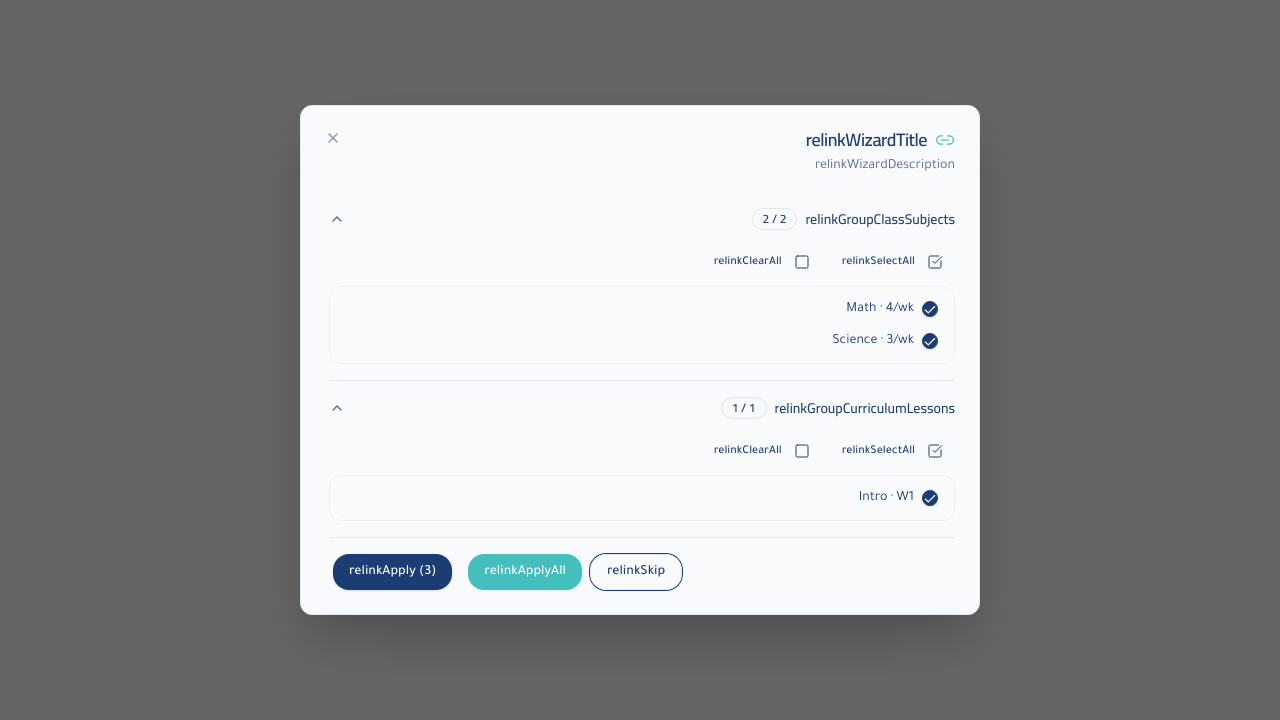
Test: RelinkAssignmentsWizard › clear-all empties one group, toggling a row flips only that row
The width and height of the screenshot is (1280, 720).
Expected: the button with test id "relink-apply-selected" is shown, x1=333 y1=554 x2=452 y2=590
Click the 1st button "relinkClearAll" at (762, 262), box x1=702 y1=246 x2=822 y2=278
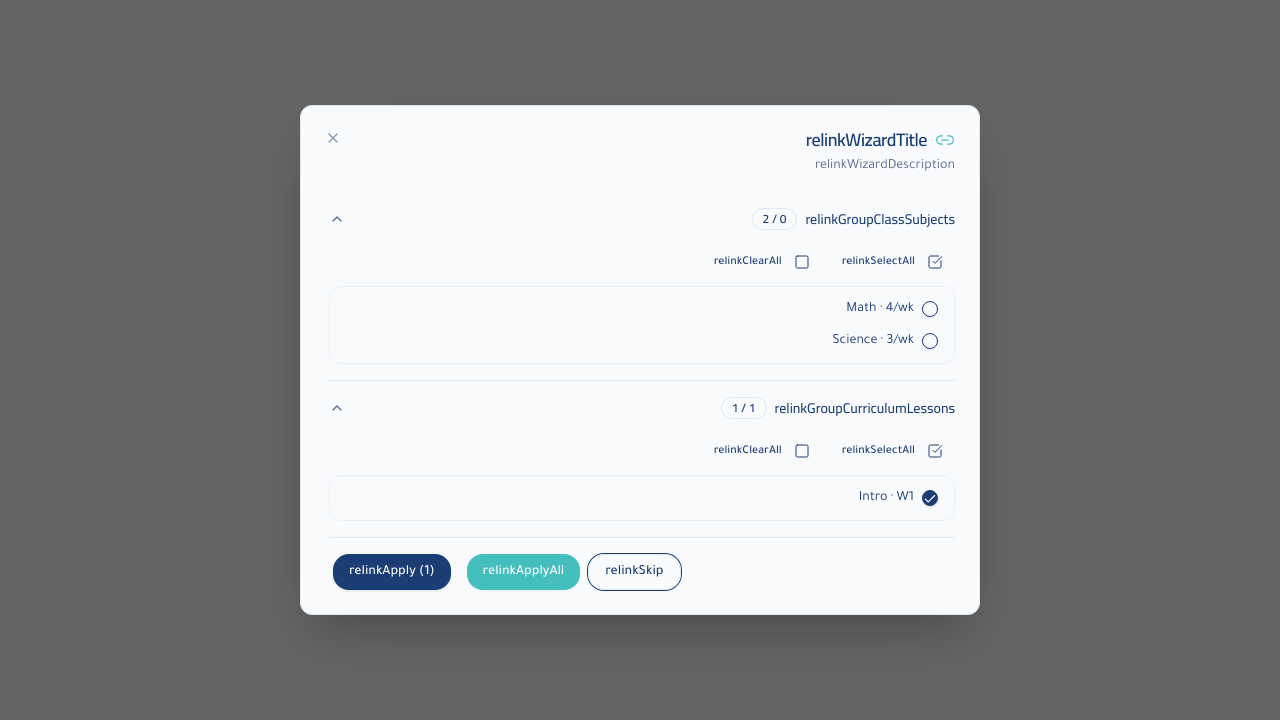
Now the button with test id "relink-apply-selected" shows "(1)", box x1=333 y1=554 x2=451 y2=590
Click the checkbox with id "relink-class_subjects-cs-1" at (930, 309), box x1=922 y1=301 x2=938 y2=317
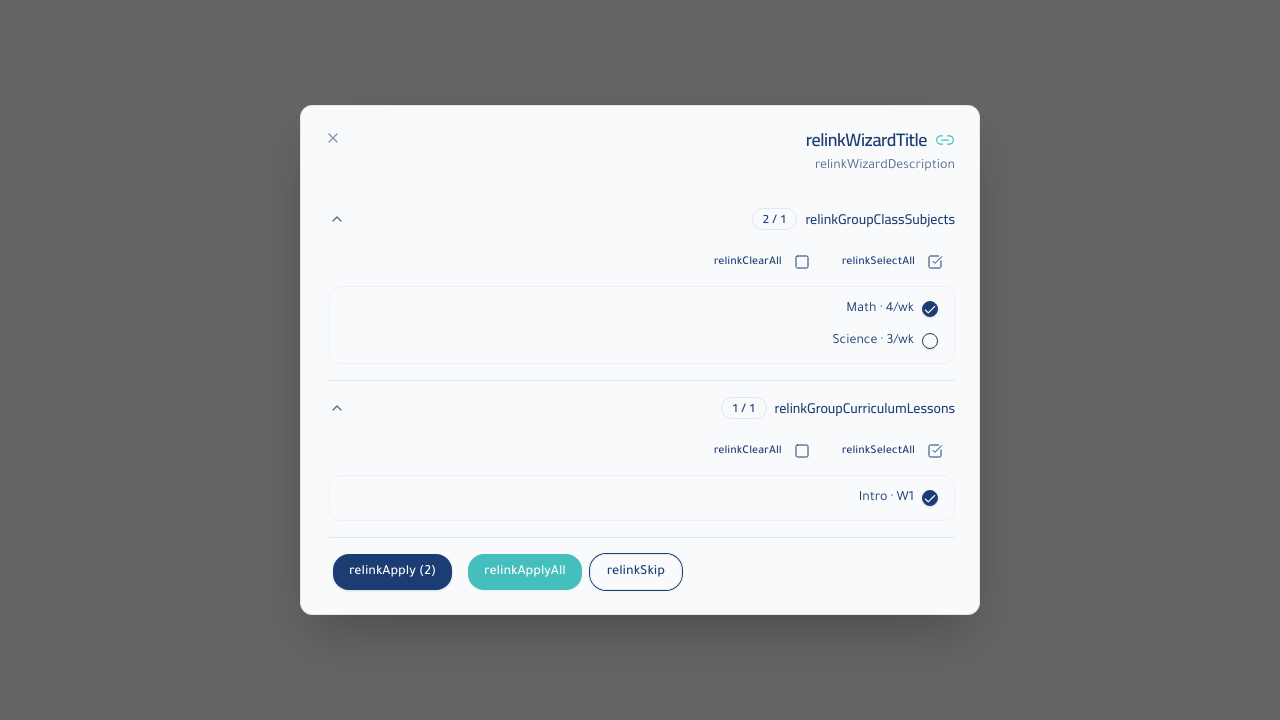
Now the button with test id "relink-apply-selected" shows "(2)", box x1=333 y1=554 x2=452 y2=590
